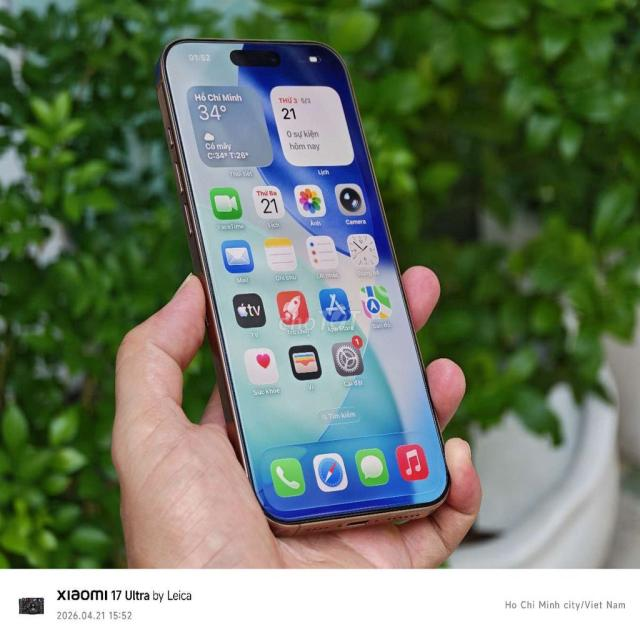gen_16: (156, 38, 449, 533)
